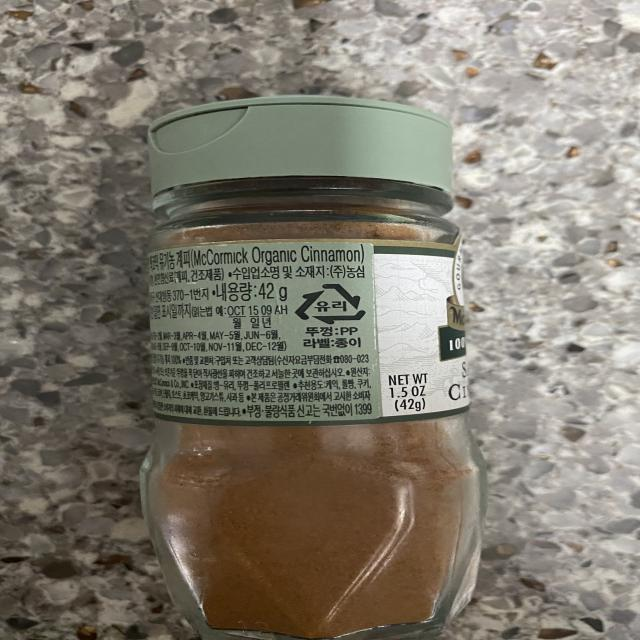Glass: (294, 279, 368, 326)
